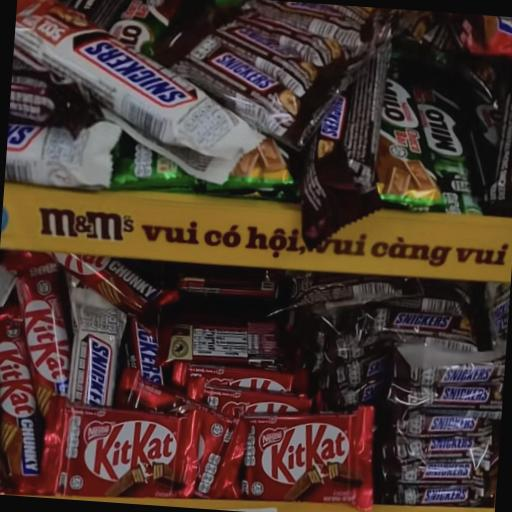kitkat: (14, 371, 206, 509), (219, 405, 439, 512)
